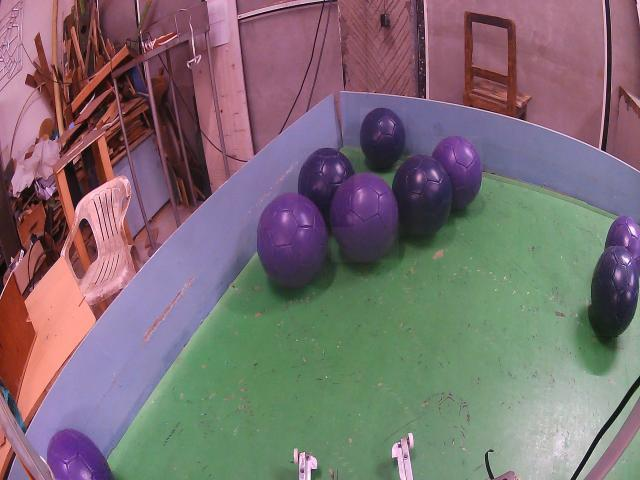jambhalya: (257, 193, 327, 287), (331, 173, 399, 262), (433, 136, 482, 209), (47, 428, 113, 480), (605, 215, 640, 275)
kaalyya: (393, 155, 452, 235), (299, 148, 354, 227), (591, 246, 639, 336), (360, 109, 406, 168)
